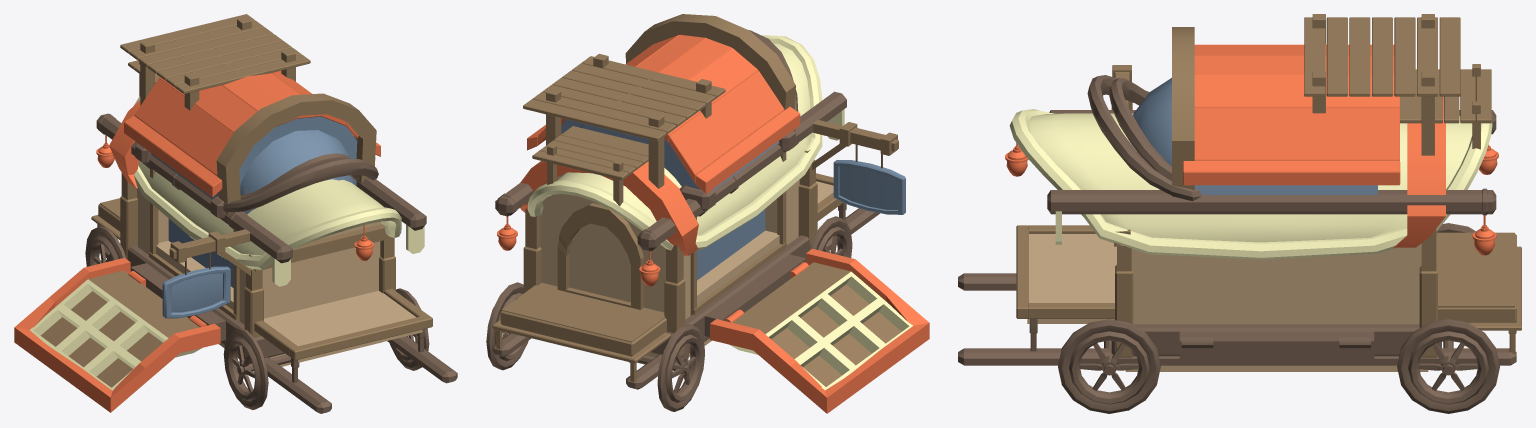
The model's file is C_TraderCarruage_2.fbx.
3 renders of one model, left to right at view 1: azimuth 30°, elevation 25°; view 2: azimuth 150°, elevation 25°; view 3: azimuth 270°, elevation 25°, orthographic. The views are drawn at different scales.
Parts seen in each view (by area): view 1: Roof.002; view 2: Roof.002; view 3: Roof.002.
Boxes of the visible parts, bbox=[...] form: Roof.002: bbox=[14, 14, 457, 413]; Roof.002: bbox=[486, 14, 929, 413]; Roof.002: bbox=[958, 14, 1521, 413].
Size of the model in its own units: 1373 by 1220 by 1910.
